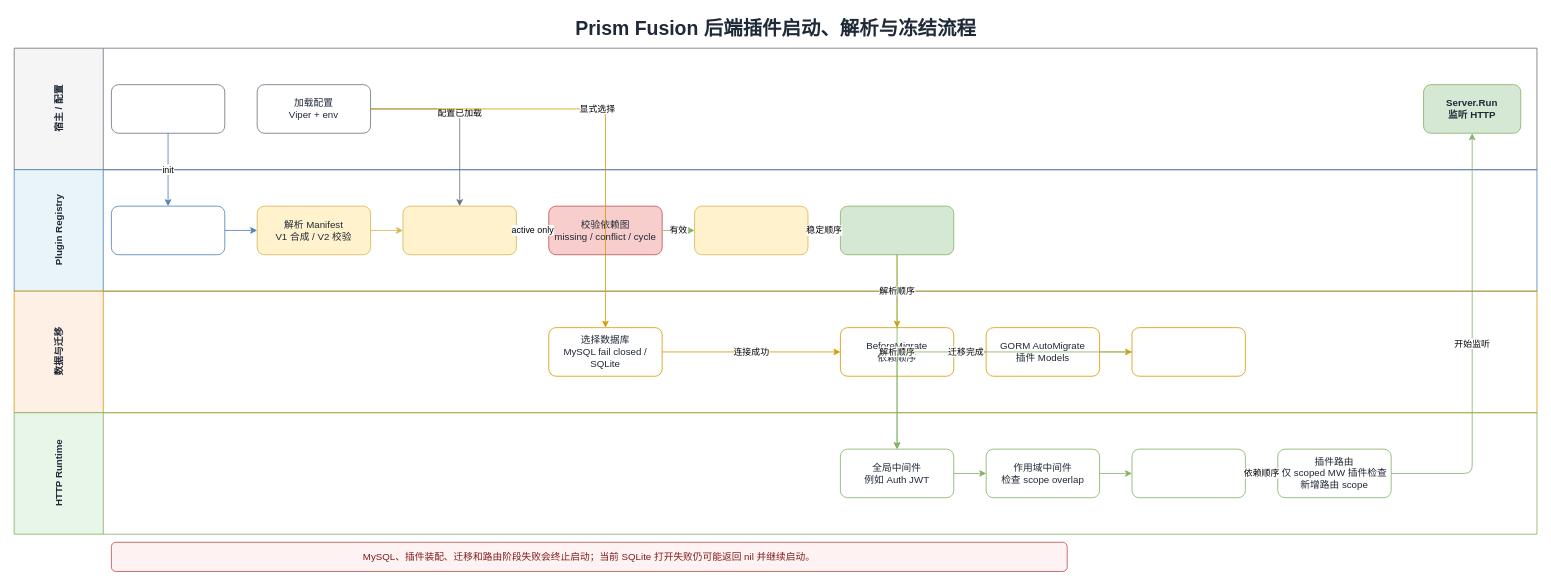
The diagram is 1551 pixels wide and 586 high, and some of its shapes have lost their labels. The shapes that lost their labels are listed below. From the top down, each one's box as (x1, y1, x2, y2) in pixels, then its label:
(111, 84, 225, 133): 导入插件包 触发 Go init()
(111, 205, 225, 255): Register 拒绝非法 / 重复 ID
(402, 205, 516, 255): 捕获 PluginEnabled 排除未启用插件
(694, 205, 808, 255): 拓扑排序 再按 priority + ID
(840, 205, 954, 255): 冻结快照 禁止后续注册
(1131, 327, 1245, 376): AfterMigrate 数据迁移
(1131, 448, 1245, 498): 核心 + Huma 路由 OpenAPI 3.1
